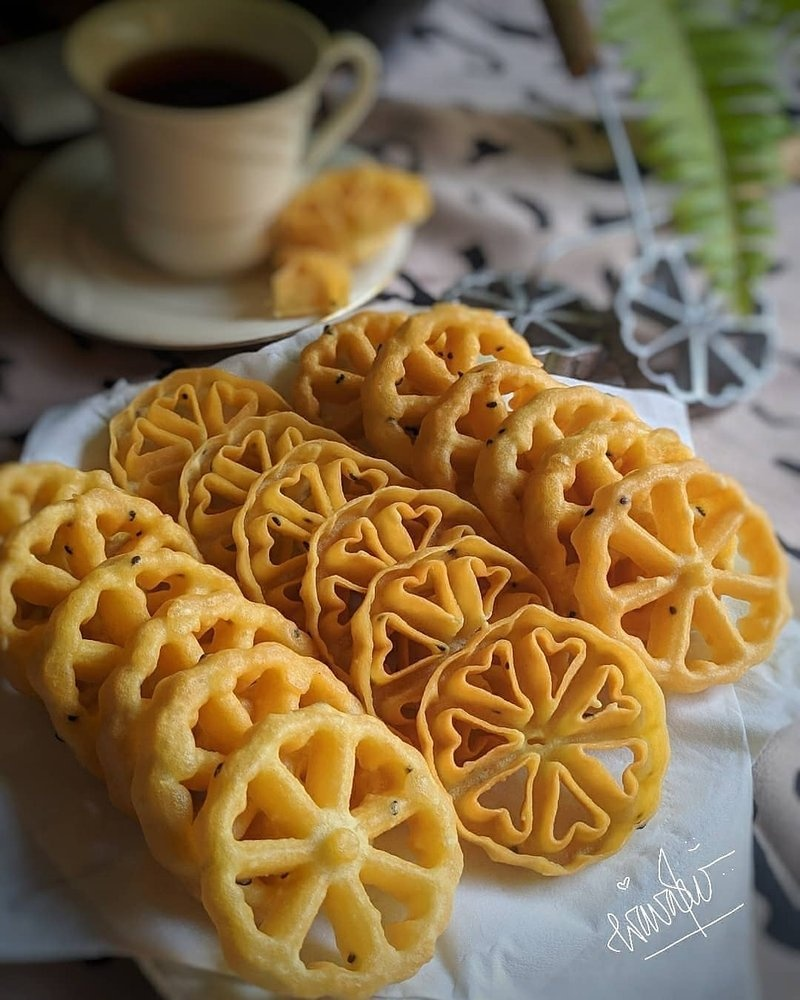kembang_goyang: (190, 707, 464, 989), (423, 614, 678, 872), (578, 452, 790, 690)
